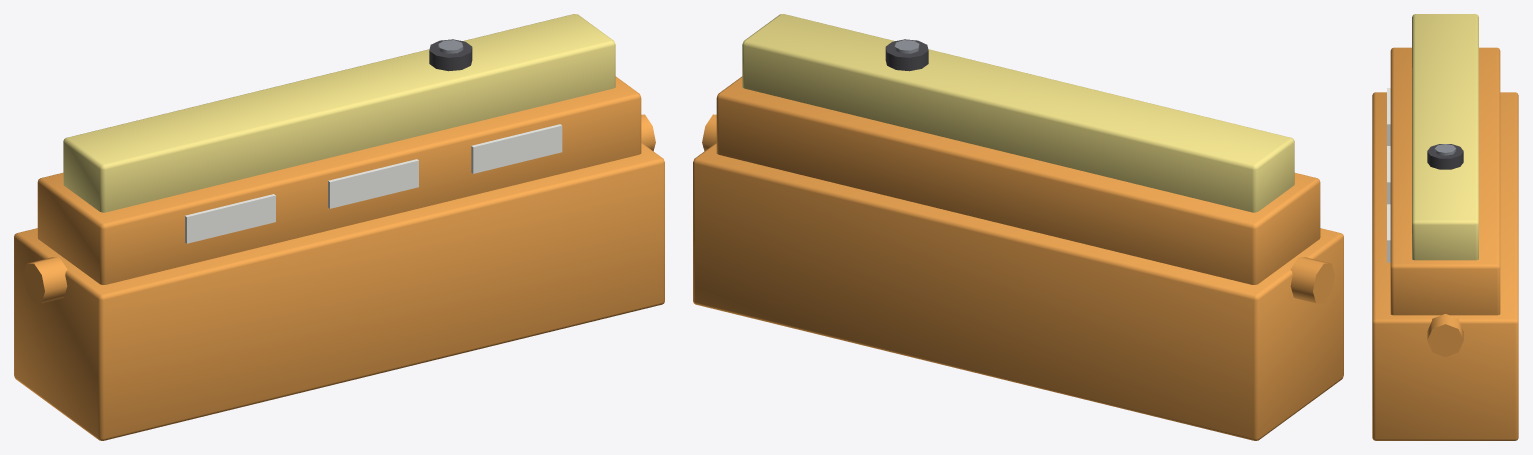
Rendered from Barrier_Water.fbx.
3 views of the same model, side by side, from view 1: azimuth 30°, elevation 25°; view 2: azimuth 150°, elevation 25°; view 3: azimuth 270°, elevation 25° (orthographic). The views are drawn at different scales.
Parts seen in each view (by area): view 1: LOD0; view 2: LOD0; view 3: LOD0.
Boxes of the visible parts, x1,y1,x2,y2 form: LOD0: (14,14,664,440); LOD0: (693,14,1343,440); LOD0: (1372,14,1518,440).
Size of what is drawn, in the model's own units: 192 by 81 by 48.
